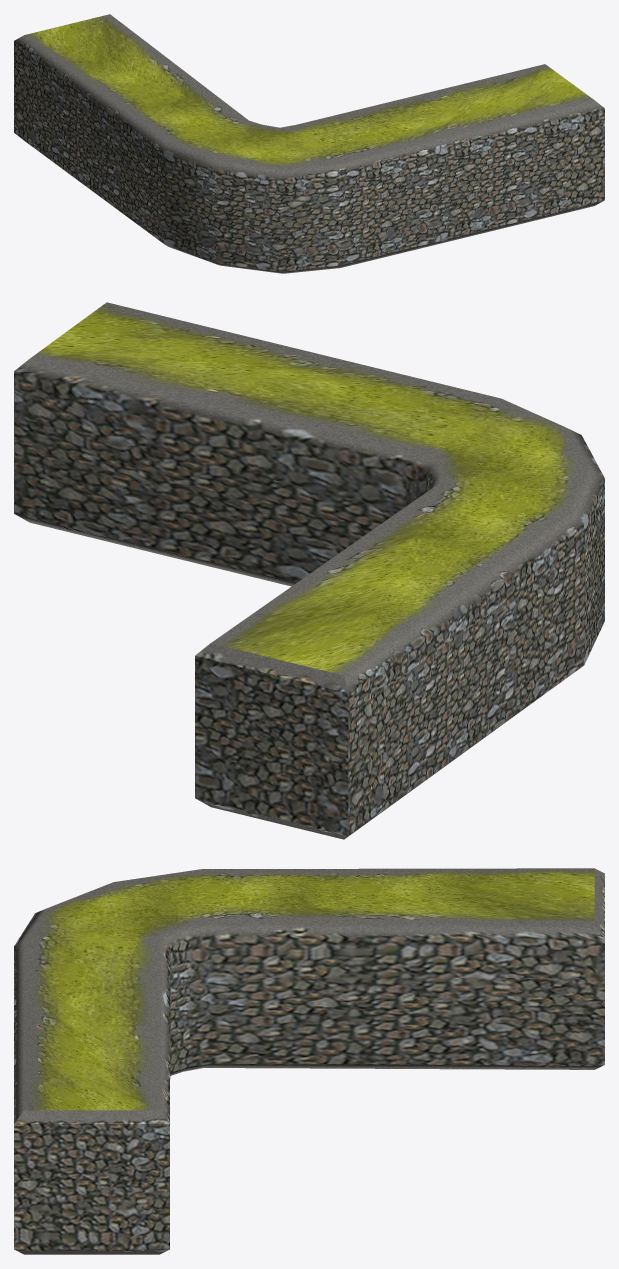
The model's file is Temple_Wall_L-Shape_Closed.fbx.
The picture shows the model from 3 angles, top to bottom: view 1: azimuth 30°, elevation 25°; view 2: azimuth 150°, elevation 25°; view 3: azimuth 270°, elevation 25°; orthographic projection. The views are drawn at different scales.
Parts seen in each view (by area): view 1: L_Shape; view 2: L_Shape; view 3: L_Shape.
Part boxes in pixels (left/top/right/bottom): L_Shape: left=14, top=14, right=604, bottom=273; L_Shape: left=14, top=302, right=604, bottom=839; L_Shape: left=14, top=868, right=604, bottom=1254.
Size of the model in its own units: 11.39 by 3.08 by 11.36.
